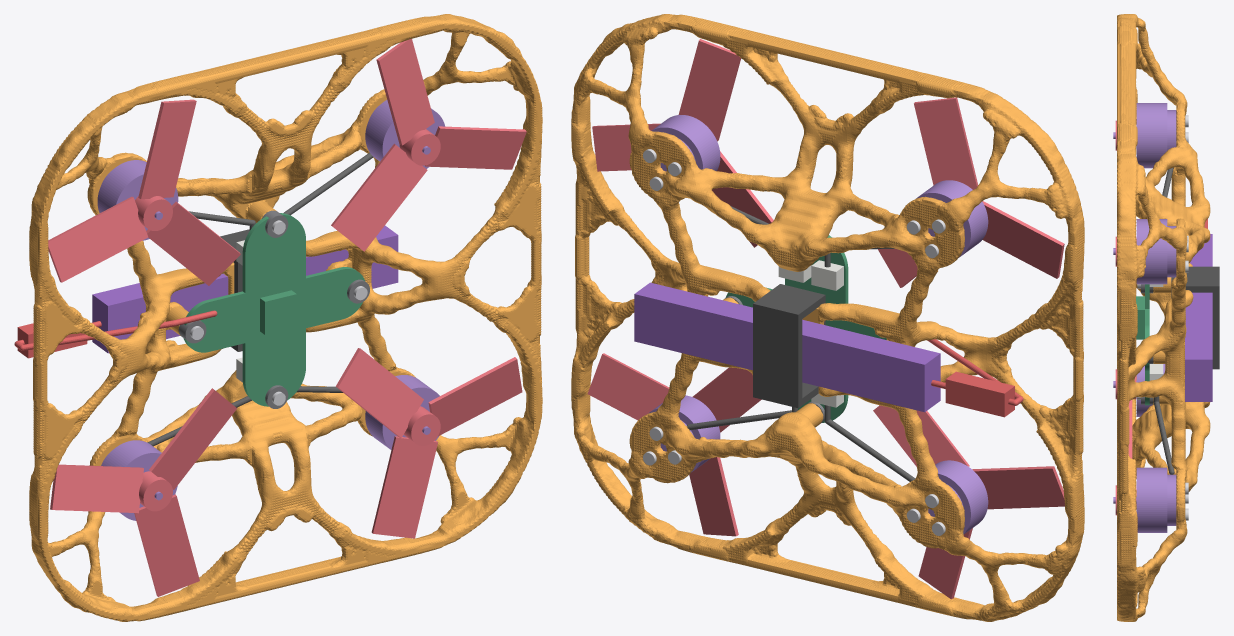
Rendered from drone.glb.
The picture shows the model from 3 angles, left to right: view 1: azimuth 30°, elevation 25°; view 2: azimuth 150°, elevation 25°; view 3: azimuth 270°, elevation 25°; orthographic projection. The views are drawn at different scales.
Parts seen in each view (by area): view 1: frame__0, flight_controller__0, prop_front_right__0, prop_front_left__0, prop_back_left__0, prop_back_right__0, battery__0, motor_back_left__0, motor_front_left__0, motor_back_right__0, power_pigtail__0, motor_front_right__0; view 2: frame__0, battery__0, prop_front_right__0, prop_back_left__0, prop_back_right__0, prop_front_left__0, battery_strap__0, motor_back_right__0, flight_controller__0, motor_front_left__0, power_pigtail__0, motor_back_left__0 (+5 smaller); view 3: frame__0, battery__0, motor_front_right__0, motor_back_left__0, motor_front_left__0, battery_strap__0, flight_controller__0, motor_lead_front_right__0, motor_back_right__0, prop_front_right__0, motor_sockets__0, motor_lead_back_left__0.
Part boxes in pixels (x1=…): frame__0: x1=29, y1=14, x2=542, y2=621; flight_controller__0: x1=183, y1=213, x2=364, y2=406; prop_front_right__0: x1=335, y1=348, x2=522, y2=538; prop_front_left__0: x1=331, y1=39, x2=526, y2=251; prop_back_left__0: x1=48, y1=99, x2=240, y2=285; prop_back_right__0: x1=50, y1=388, x2=236, y2=596; battery__0: x1=92, y1=225, x2=398, y2=353; motor_back_left__0: x1=97, y1=160, x2=178, y2=240; motor_front_left__0: x1=365, y1=100, x2=445, y2=168; motor_back_right__0: x1=101, y1=440, x2=177, y2=520; power_pigtail__0: x1=14, y1=310, x2=217, y2=358; motor_front_right__0: x1=365, y1=375, x2=439, y2=449; frame__0: x1=571, y1=14, x2=1084, y2=621; battery__0: x1=634, y1=282, x2=940, y2=412; prop_front_right__0: x1=587, y1=353, x2=761, y2=536; prop_back_left__0: x1=878, y1=97, x2=1064, y2=287; prop_back_right__0: x1=873, y1=405, x2=1064, y2=599; prop_front_left__0: x1=592, y1=39, x2=773, y2=247; battery_strap__0: x1=753, y1=284, x2=825, y2=408; motor_back_right__0: x1=928, y1=460, x2=988, y2=534; flight_controller__0: x1=725, y1=235, x2=886, y2=422; motor_front_left__0: x1=651, y1=115, x2=720, y2=171; power_pigtail__0: x1=927, y1=339, x2=1023, y2=417; motor_back_left__0: x1=916, y1=180, x2=988, y2=257; frame__0: x1=1117, y1=14, x2=1210, y2=621; battery__0: x1=1185, y1=234, x2=1212, y2=401; motor_front_right__0: x1=1113, y1=467, x2=1176, y2=532; motor_back_left__0: x1=1113, y1=103, x2=1176, y2=168; motor_front_left__0: x1=1113, y1=219, x2=1176, y2=284; battery_strap__0: x1=1171, y1=266, x2=1219, y2=369; flight_controller__0: x1=1136, y1=284, x2=1149, y2=405; motor_lead_front_right__0: x1=1153, y1=396, x2=1174, y2=474; motor_back_right__0: x1=1113, y1=364, x2=1165, y2=416; prop_front_right__0: x1=1115, y1=400, x2=1136, y2=515; motor_sockets__0: x1=1149, y1=284, x2=1163, y2=380; motor_lead_back_left__0: x1=1162, y1=167, x2=1173, y2=197.
Size of the model in its own units: 112 by 112 by 22.9.
